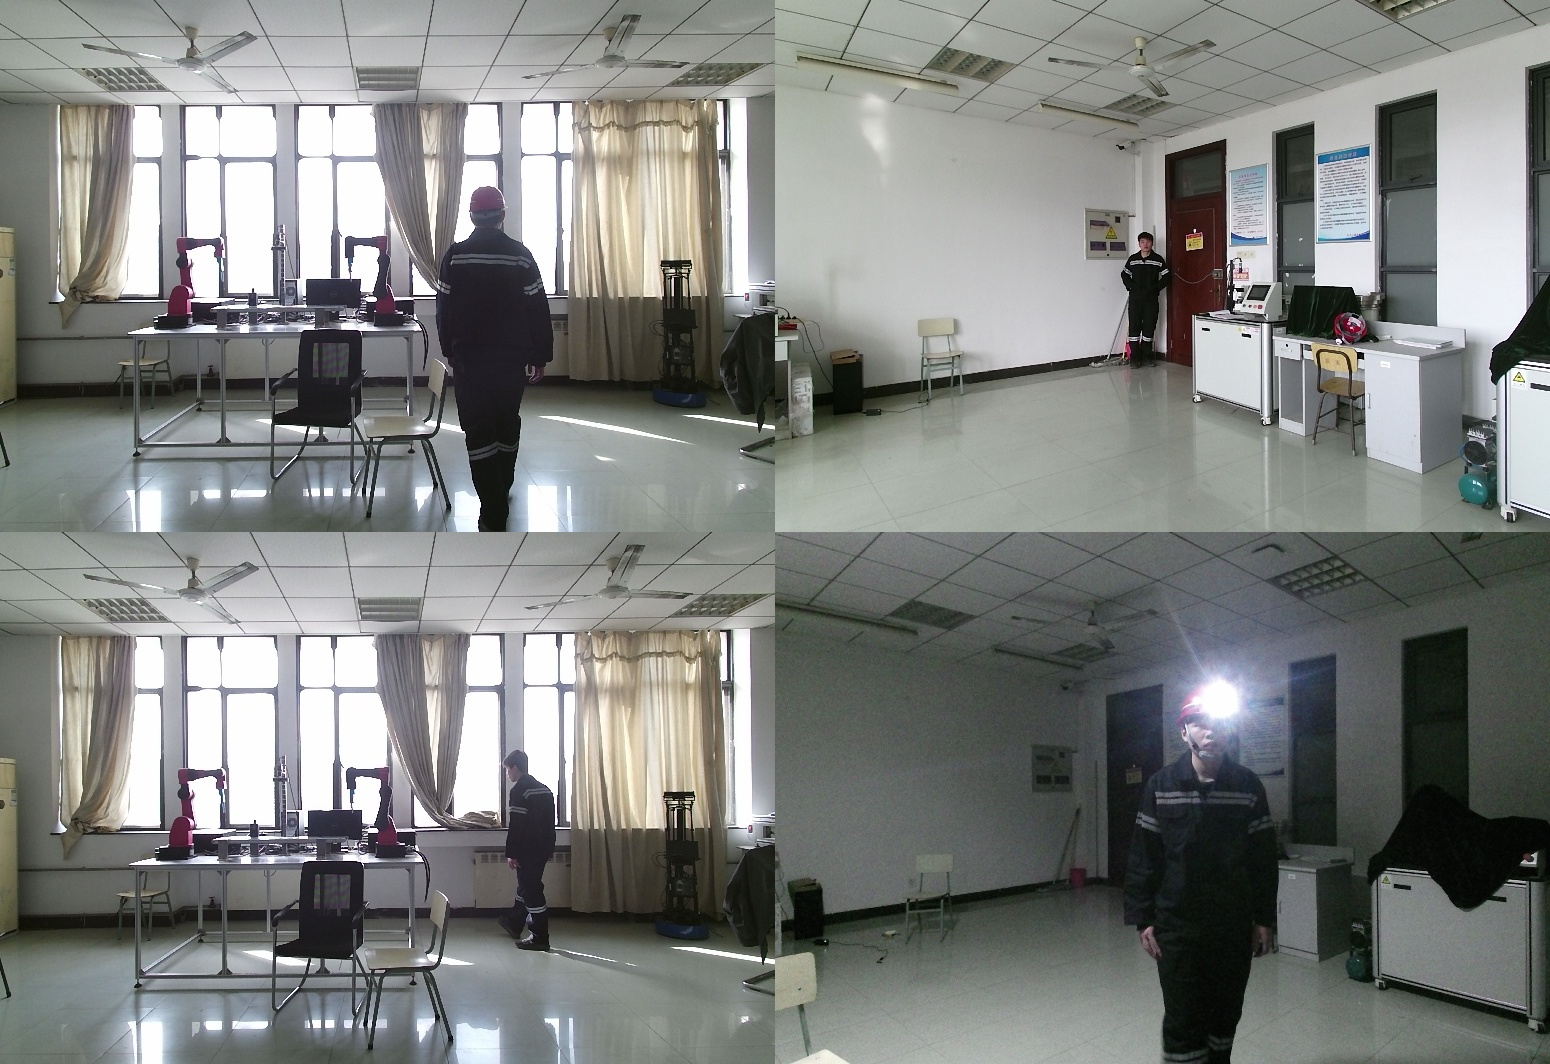person: (1132, 681, 1293, 1064), (438, 185, 559, 532), (497, 748, 563, 955), (1119, 232, 1172, 370)
